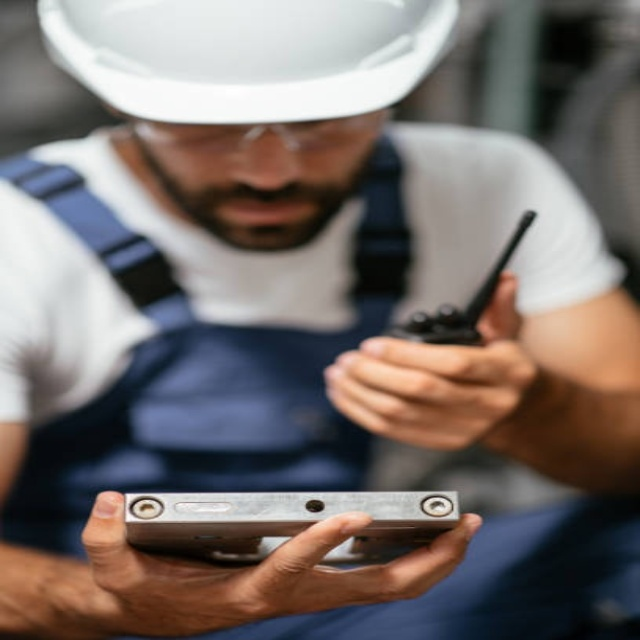Gafas: (129, 107, 391, 160)
Sin_guantes: (76, 486, 477, 631), (323, 272, 543, 455)
Sin_mascara: (210, 189, 325, 243)
